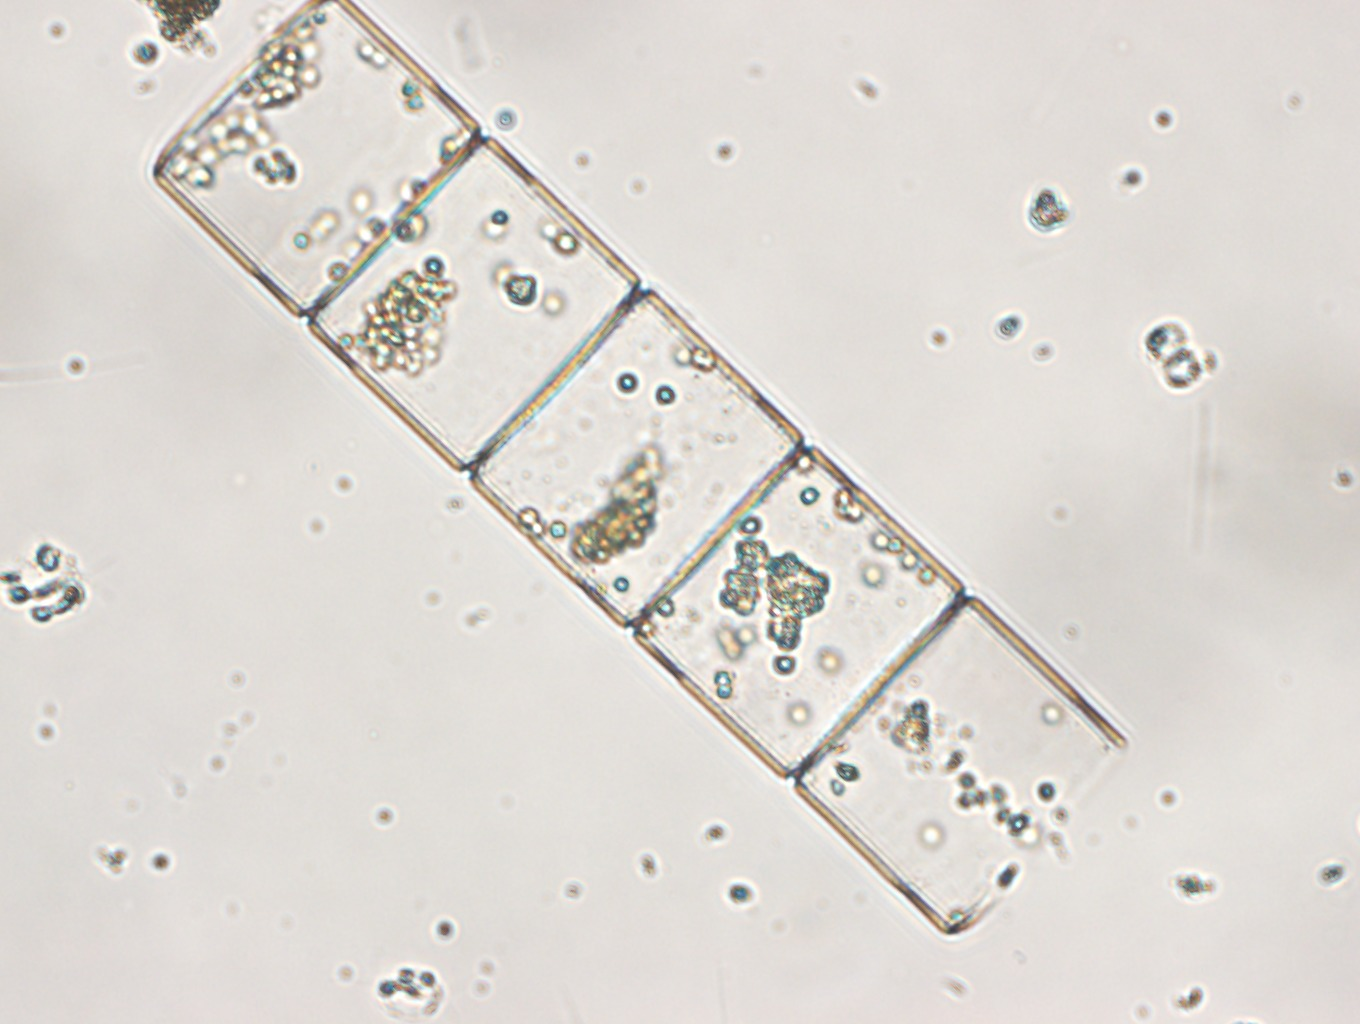guinardia flaccida: (151, 1, 1141, 941)
